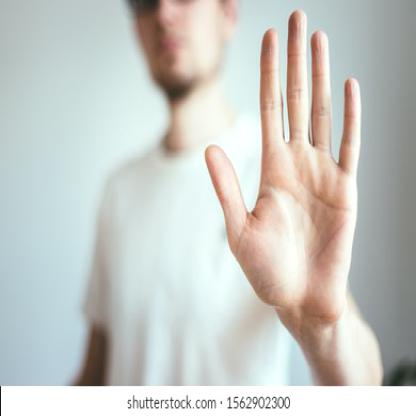Stop: (211, 22, 371, 316)
